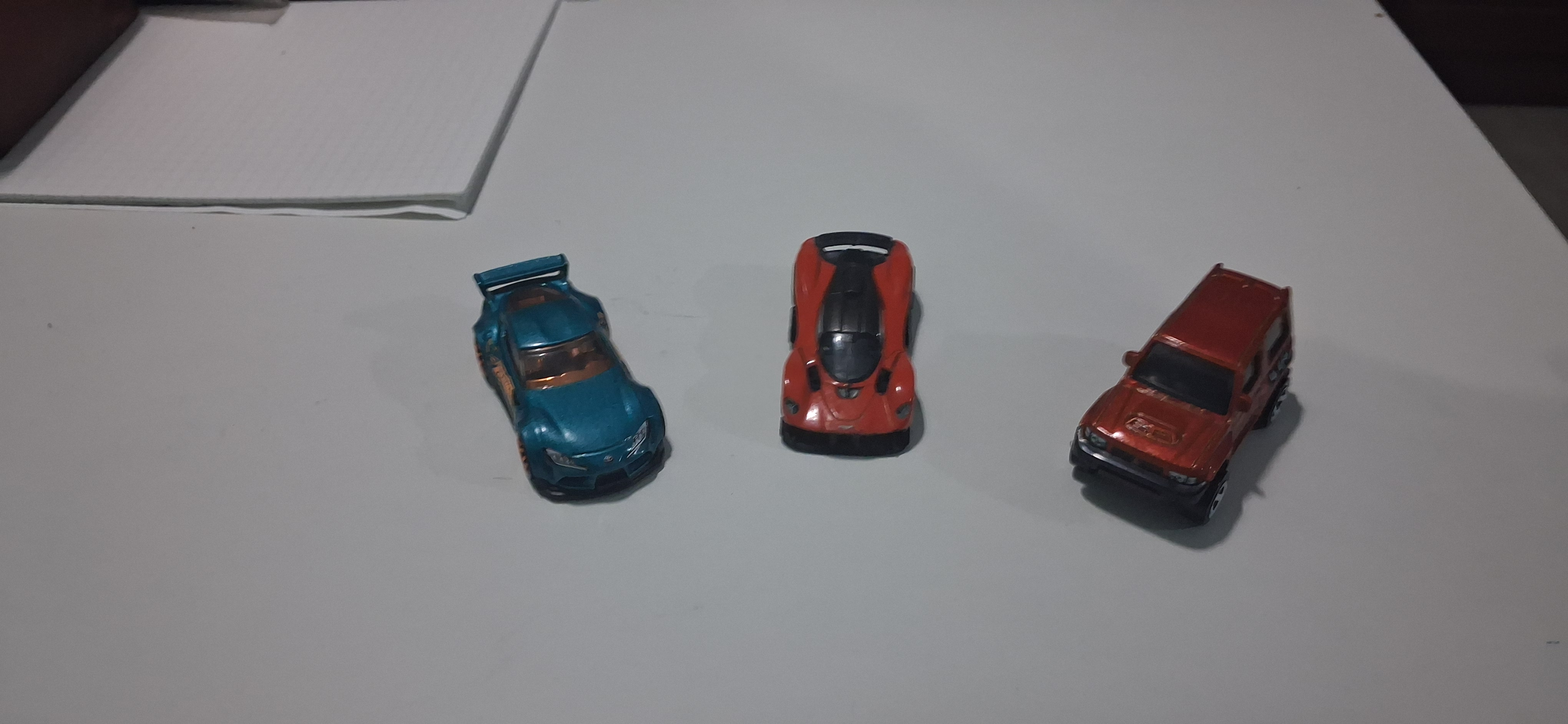Aston_Martin_Valkyrie: (739, 211, 958, 481)
Mitsubishi_Pajero_Evolution: (1032, 226, 1314, 582)
Toyota_GR_Supra: (434, 256, 691, 534)
